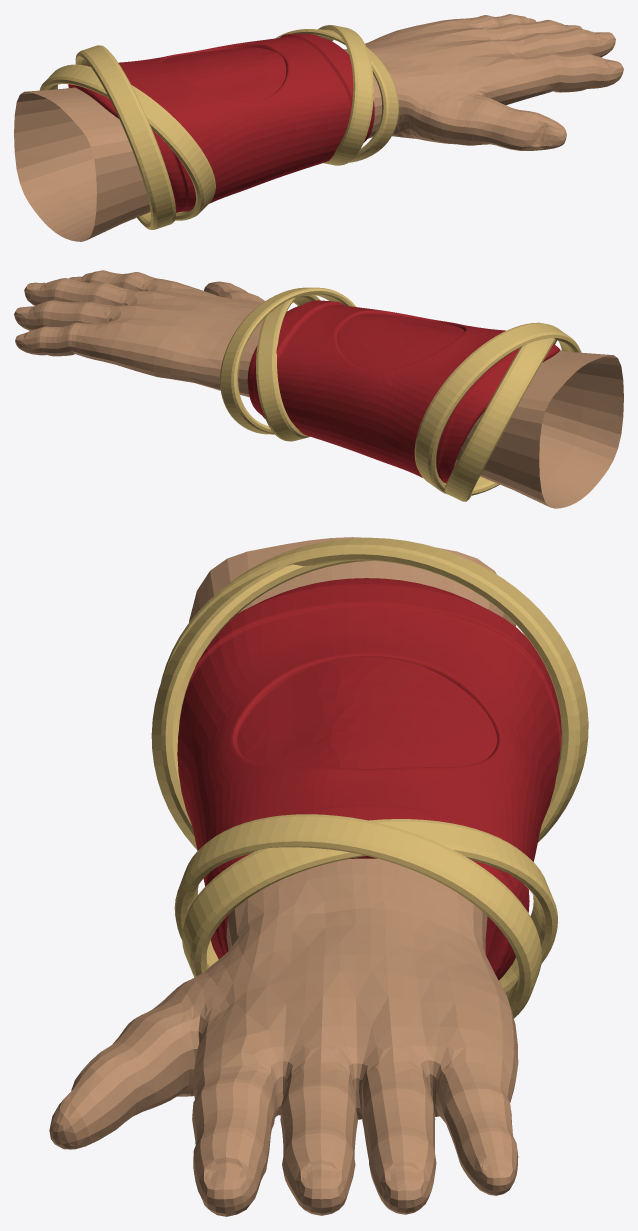
Rendered from Hand_1.fbx.
3 renders of one model, top to bottom at view 1: azimuth 30°, elevation 25°; view 2: azimuth 150°, elevation 25°; view 3: azimuth 270°, elevation 25°, orthographic. The views are drawn at different scales.
Visible parts, largest first — view 1: Hand; view 2: Hand; view 3: Hand.
Boxes of the visible parts, x1,y1,x2,y2 form: Hand: [14, 14, 623, 241]; Hand: [14, 270, 623, 508]; Hand: [49, 537, 588, 1216].
Size of the model in its own units: 100 by 28.54 by 42.45.
2 materials, 2 textured.
